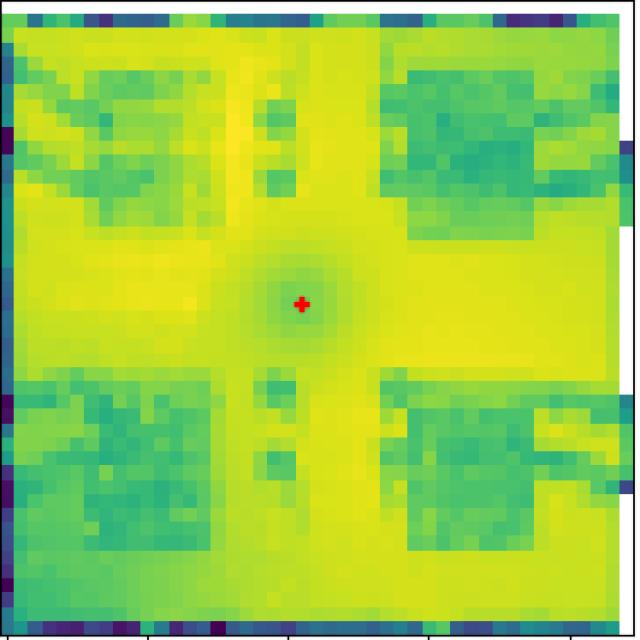Concrete: (78, 378, 213, 553)
Glass: (406, 384, 533, 546)
Metal: (87, 70, 225, 236)
Wood: (404, 69, 535, 242)
